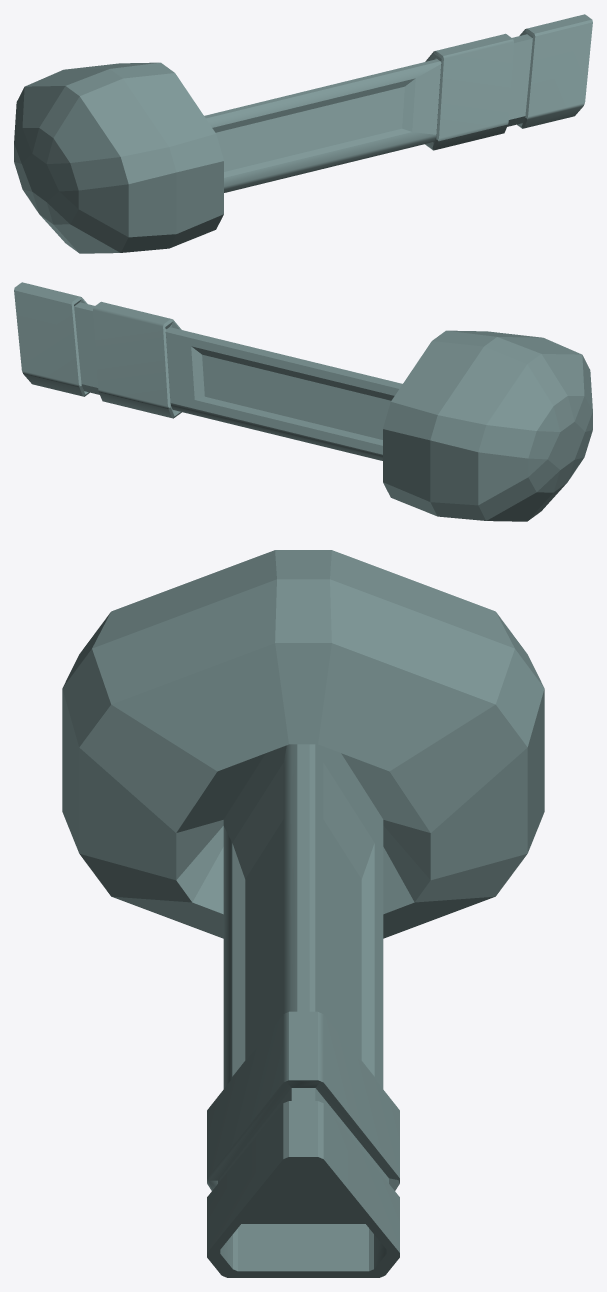
File: cannon.obj
The picture shows the model from 3 angles, top to bottom: view 1: azimuth 30°, elevation 25°; view 2: azimuth 150°, elevation 25°; view 3: azimuth 270°, elevation 25°; orthographic projection. The views are drawn at different scales.
Parts seen in each view (by area): view 1: cannon_combined; view 2: cannon_combined; view 3: cannon_combined.
Part boxes in pixels (box(x1,y1,x2,y2)): cannon_combined: box(14, 14, 592, 253); cannon_combined: box(14, 282, 592, 521); cannon_combined: box(62, 550, 544, 1277).
Bounding box in the file's own units: 3 × 0.8907 × 1.14.
